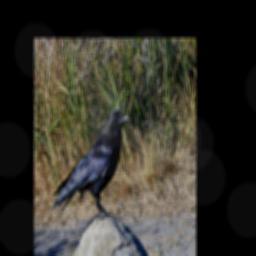Crow: (50, 105, 131, 225)
